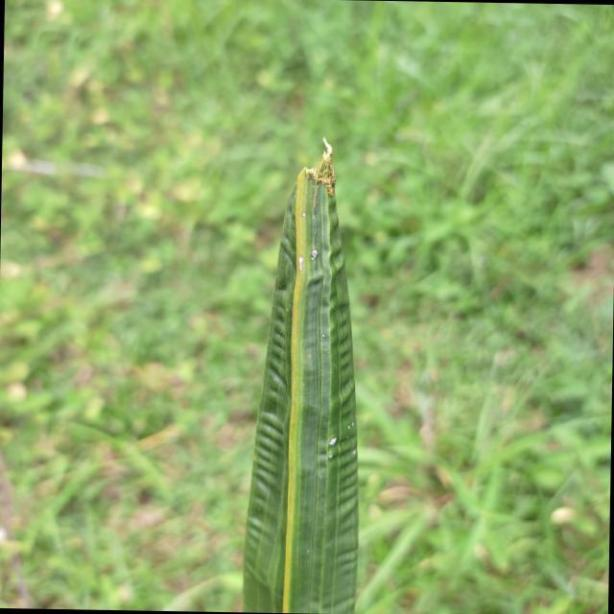Boron: (240, 123, 360, 614)
